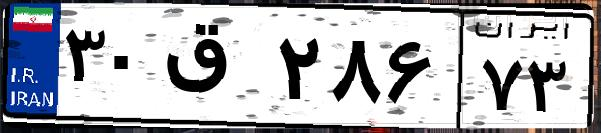0: (110, 28, 158, 98)
2: (270, 28, 330, 110)
3: (57, 26, 110, 100), (525, 38, 570, 115)
6: (385, 28, 445, 110)
7: (475, 38, 525, 113)
8: (330, 28, 385, 110)
ق: (158, 20, 270, 120)
